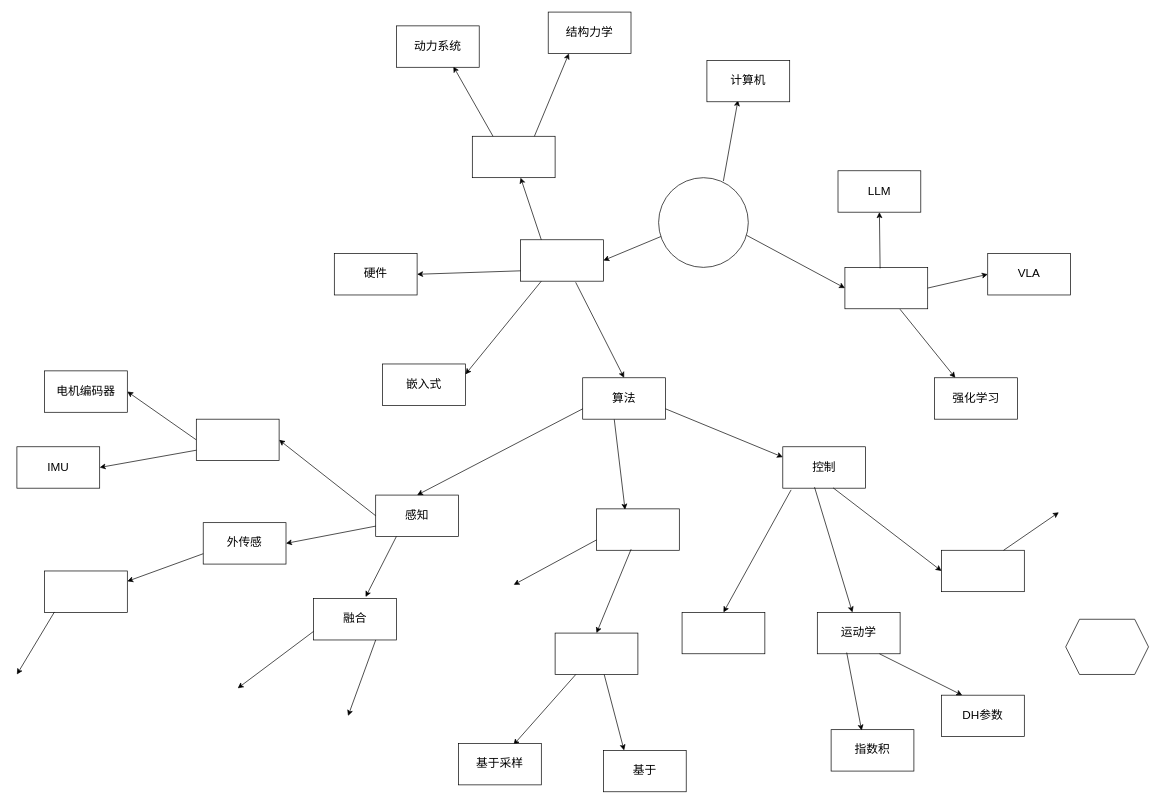
The diagram is 1161 pixels wide and 804 high, and some of its shapes have lost their labels. The box of each missing label's shape, as (x1, y1, x2, y2) in pixels:
AI: (844, 267, 928, 309)
具身智能: (658, 177, 748, 267)
内传感: (196, 418, 279, 461)
动力学: (941, 550, 1024, 592)
导航: (596, 508, 679, 550)
机器人: (520, 239, 603, 281)
结构: (472, 136, 555, 178)
视觉: (44, 570, 127, 612)
路径规划: (554, 632, 638, 674)
路径跟随: (681, 612, 765, 654)
